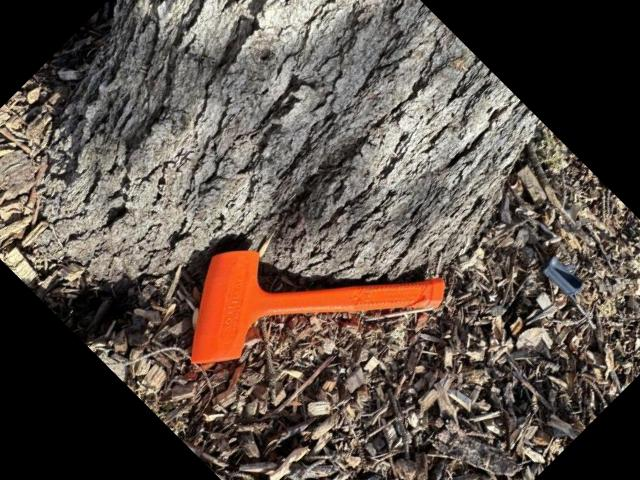hammer: (150, 154, 453, 458)
